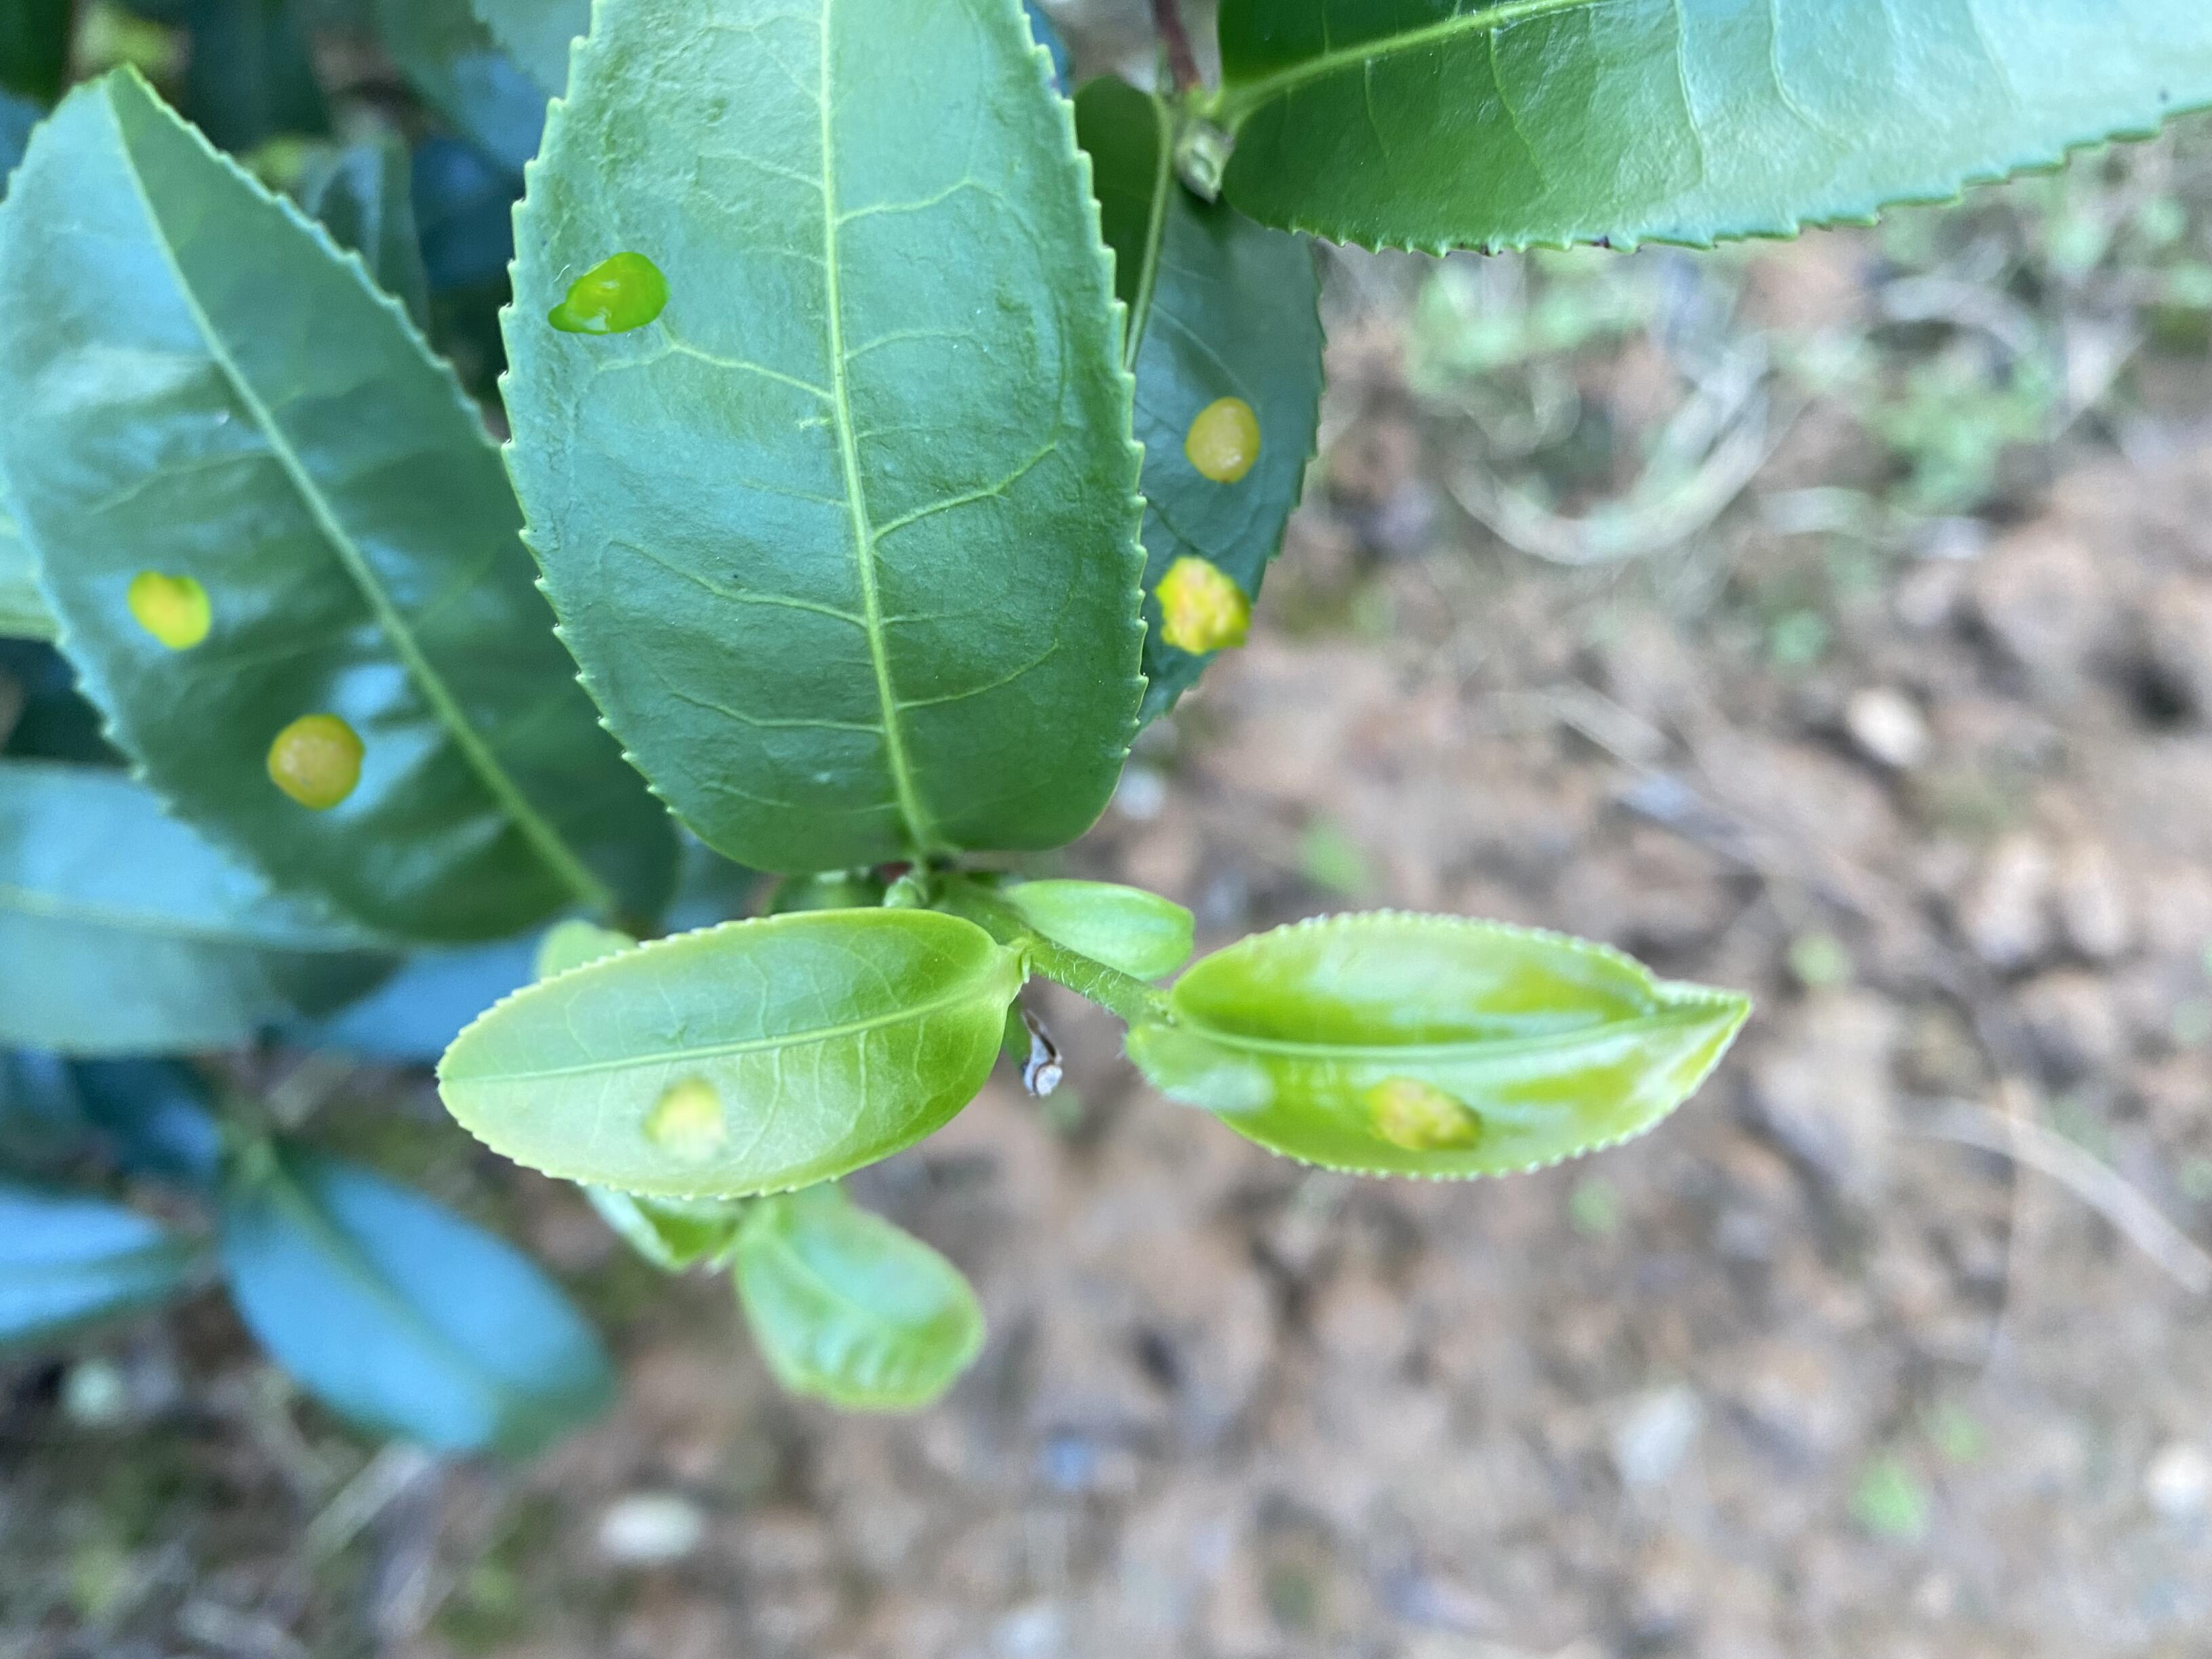chabing_high: (3, 64, 688, 945), (1066, 70, 1332, 741)
chabing_low: (498, 2, 1155, 877), (435, 908, 1005, 1201), (1170, 910, 1756, 1188)
healthy: (1211, 2, 2207, 256)
